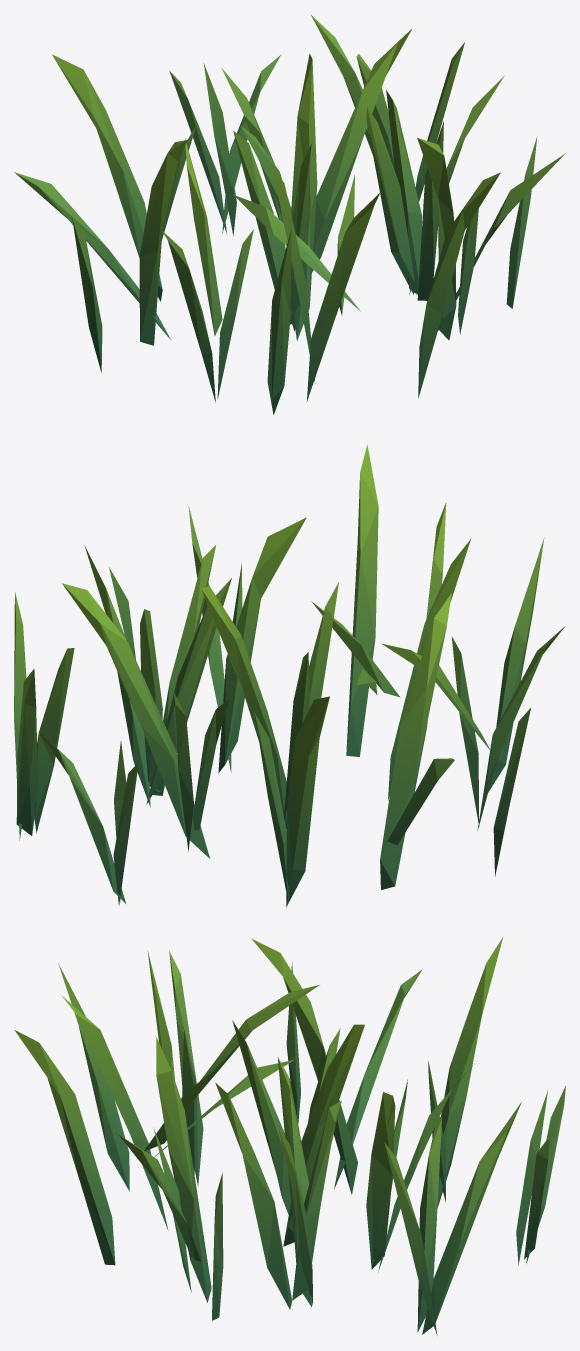
File: ZLP_Grass_A_1.FBX
3 renders of one model, top to bottom at view 1: azimuth 30°, elevation 25°; view 2: azimuth 150°, elevation 25°; view 3: azimuth 270°, elevation 25°, orthographic. The views are drawn at different scales.
Visible parts, largest first — view 1: ZLP_Grass_A_1; view 2: ZLP_Grass_A_1; view 3: ZLP_Grass_A_1.
Part boxes in pixels (x1,y1,x2,y2): ZLP_Grass_A_1: [14, 15, 565, 414]; ZLP_Grass_A_1: [14, 445, 564, 907]; ZLP_Grass_A_1: [14, 937, 565, 1335].
Bounding box in the file's own units: 140 × 78.84 × 151.
